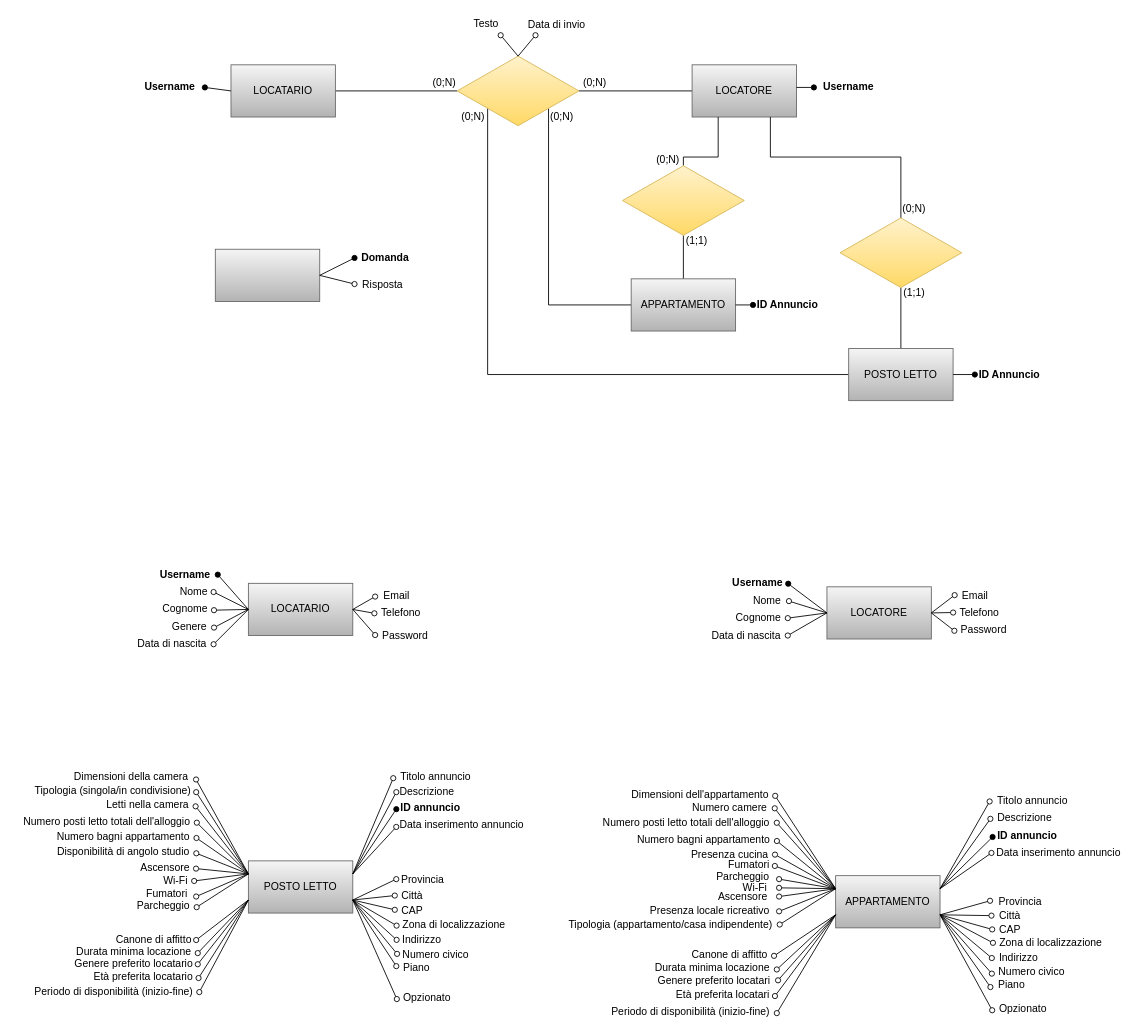
The diagram is 1142 pixels wide and 1035 high, and some of its shapes have lost their labels. Each missing label, with the box of its shape:
Annuncio appartamento: (622, 165, 744, 235)
Annuncio posto letto: (839, 217, 962, 288)
FAQ: (214, 248, 320, 301)
Messaggio: (456, 55, 579, 126)
